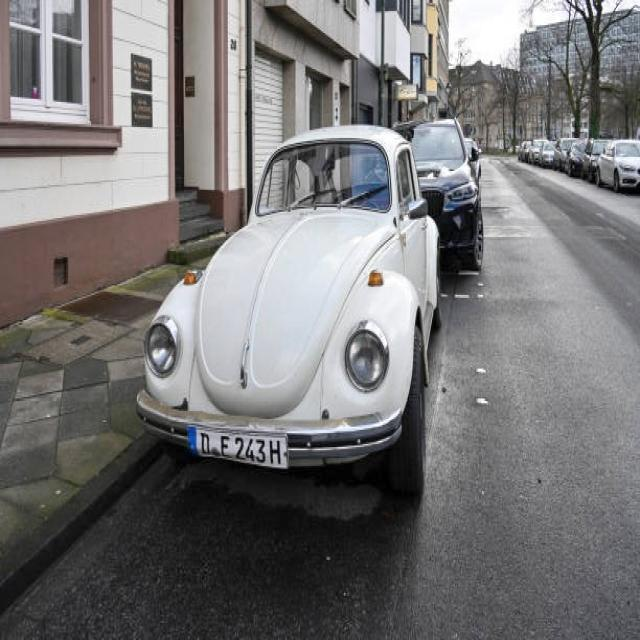car: (141, 123, 435, 481)
